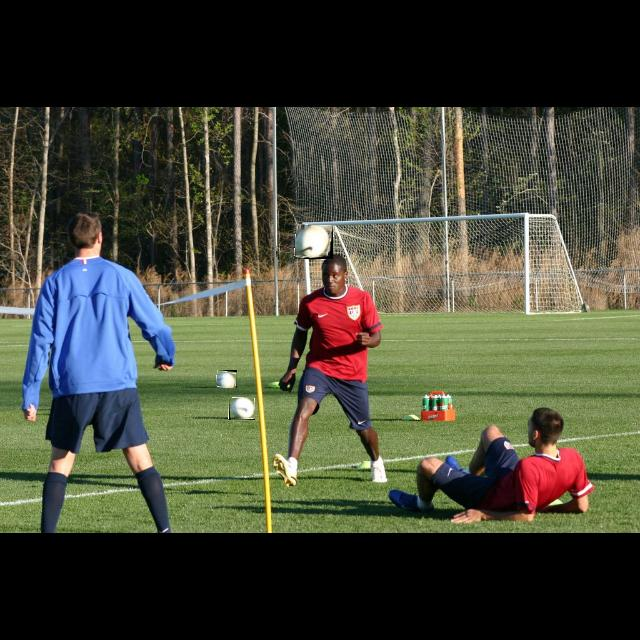Football: (295, 225, 333, 259), (229, 398, 255, 420), (217, 370, 237, 388)
